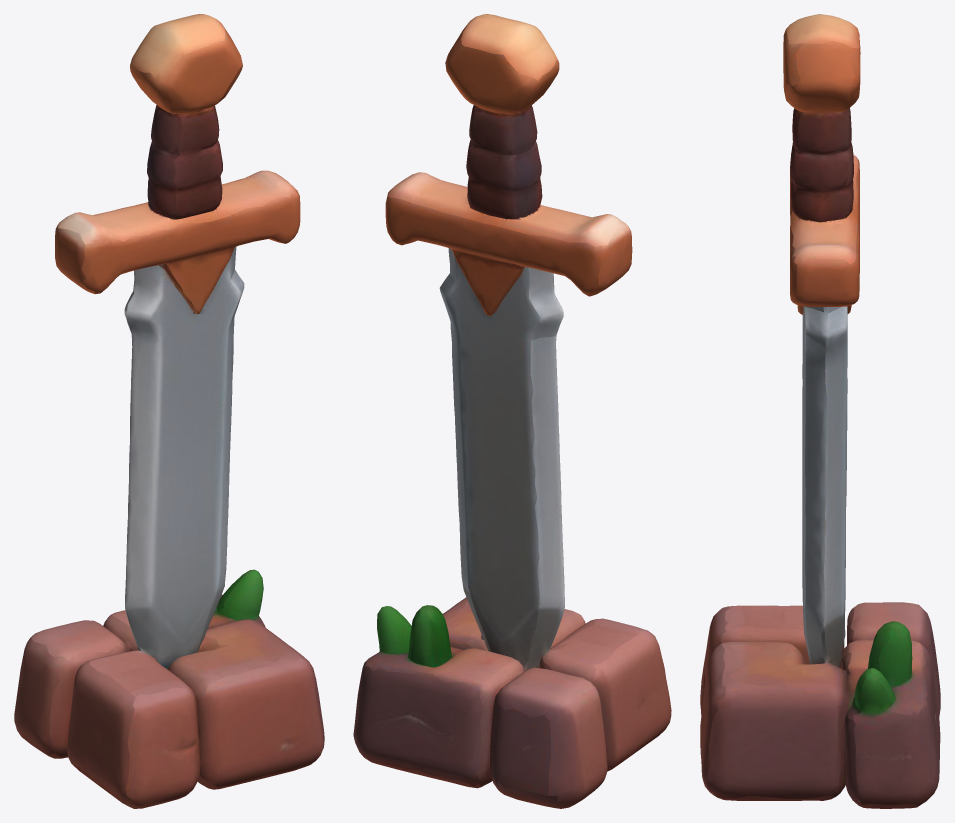
The model's file is a-silver-sword-stuck-point-down-1136b2.glb.
3 renders of one model, left to right at view 1: azimuth 30°, elevation 25°; view 2: azimuth 150°, elevation 25°; view 3: azimuth 270°, elevation 25°, orthographic. The views are drawn at different scales.
Parts seen in each view (by area): view 1: geometry_0; view 2: geometry_0; view 3: geometry_0.
Part boxes in pixels (x1,y1,x2,y2): geometry_0: (14,14,324,808); geometry_0: (353,14,671,808); geometry_0: (700,14,940,808).
Bounding box in the file's own units: 0.332 × 1 × 0.2918.
Materials: 1 (1 with a texture image).
